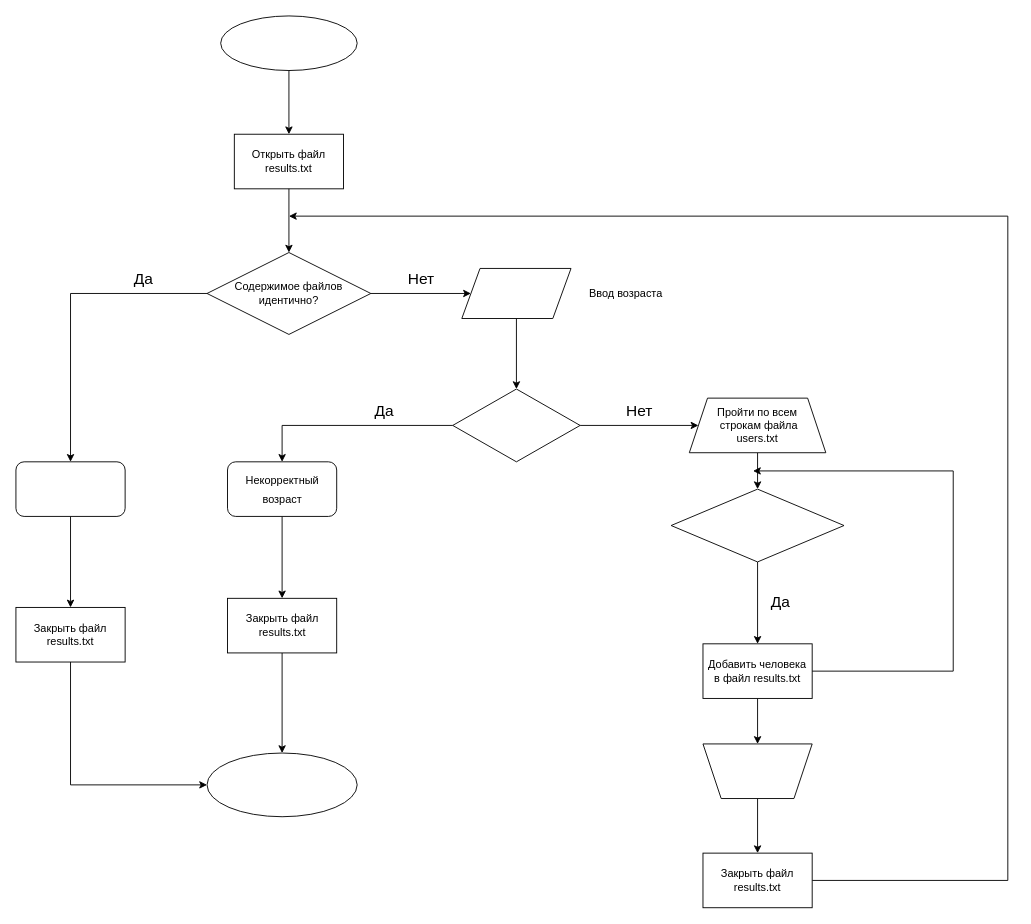
Image size: 1031x924. Some labels were removed from this diagram. Here are the shapes that lost their labels. From the top down, the centre of each, then its label:
At [516,293]: "Возраст".
At [516,425]: "Возраст == -1 ?".
At [70,488]: "Файлы идентичны".
At [757,525]: "Возраст человека из файла равен введённому возрасту?".
